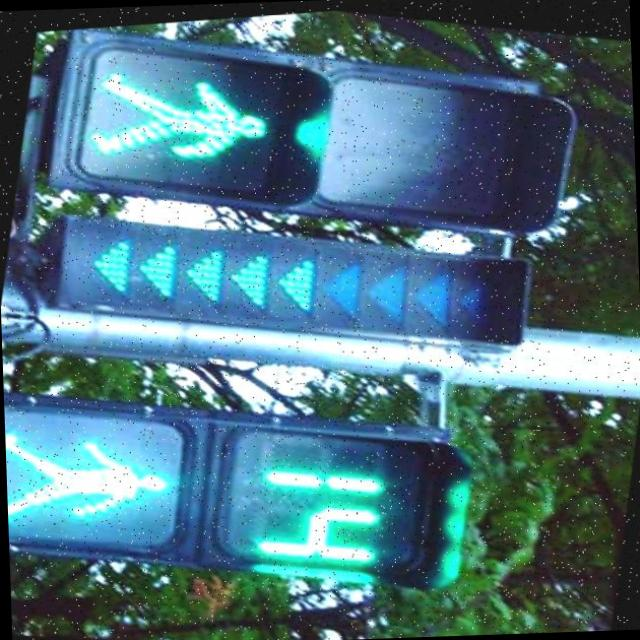green_light: (3, 372, 430, 603), (67, 44, 290, 204)
